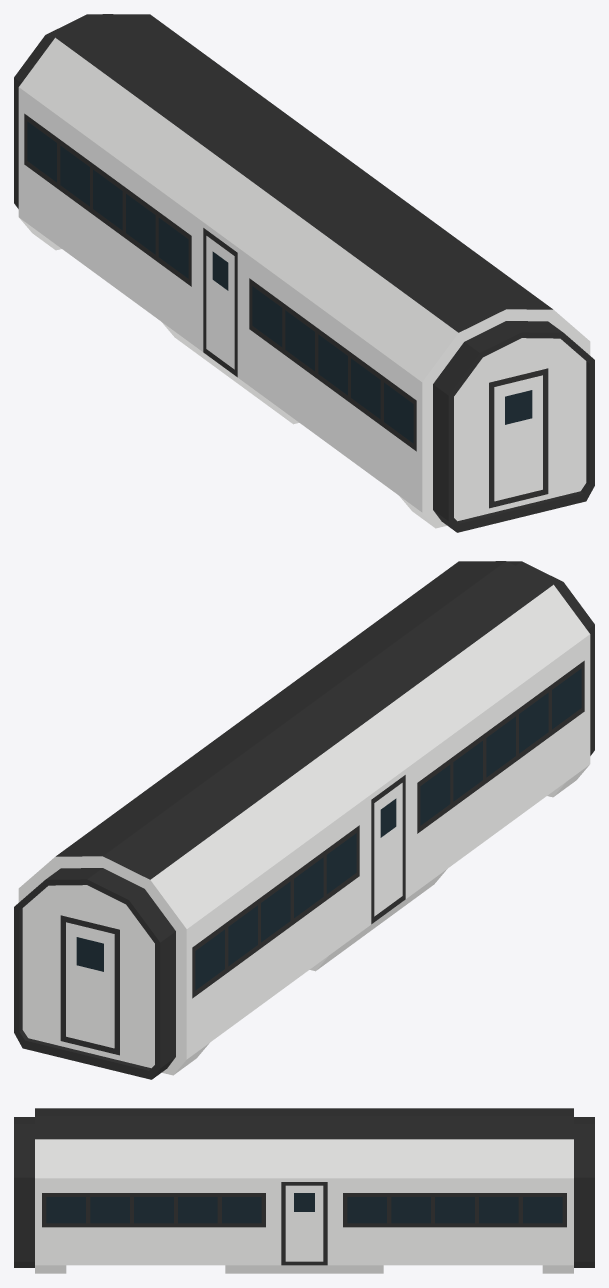
File: train-speed-wagon-base.glb
3 renders of one model, top to bottom at view 1: azimuth 30°, elevation 25°; view 2: azimuth 150°, elevation 25°; view 3: azimuth 270°, elevation 25°, orthographic. The views are drawn at different scales.
Parts seen in each view (by area): view 1: train-speed-wagon-base; view 2: train-speed-wagon-base; view 3: train-speed-wagon-base.
Boxes of the visible parts, x1,y1,x2,y2 form: train-speed-wagon-base: [14, 14, 594, 532]; train-speed-wagon-base: [14, 561, 594, 1079]; train-speed-wagon-base: [14, 1108, 594, 1273].
Size of the model in its own units: 3.1 by 3.56 by 13.89.
1 material, 1 textured.
